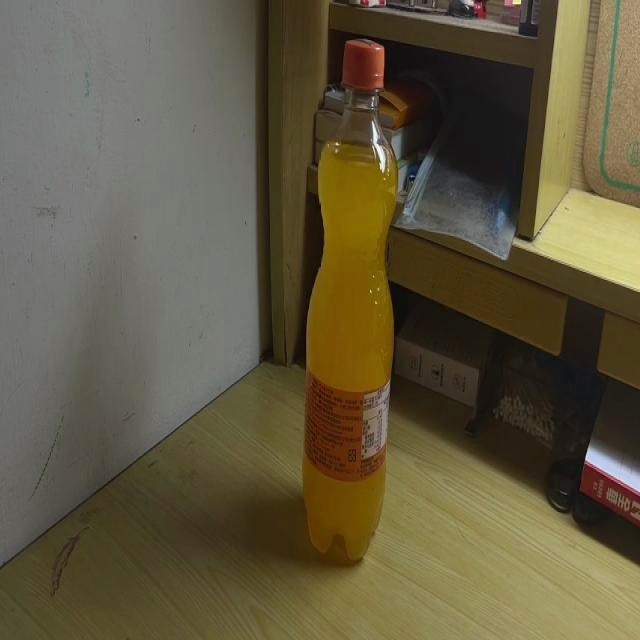Fanta: (306, 40, 396, 564)
